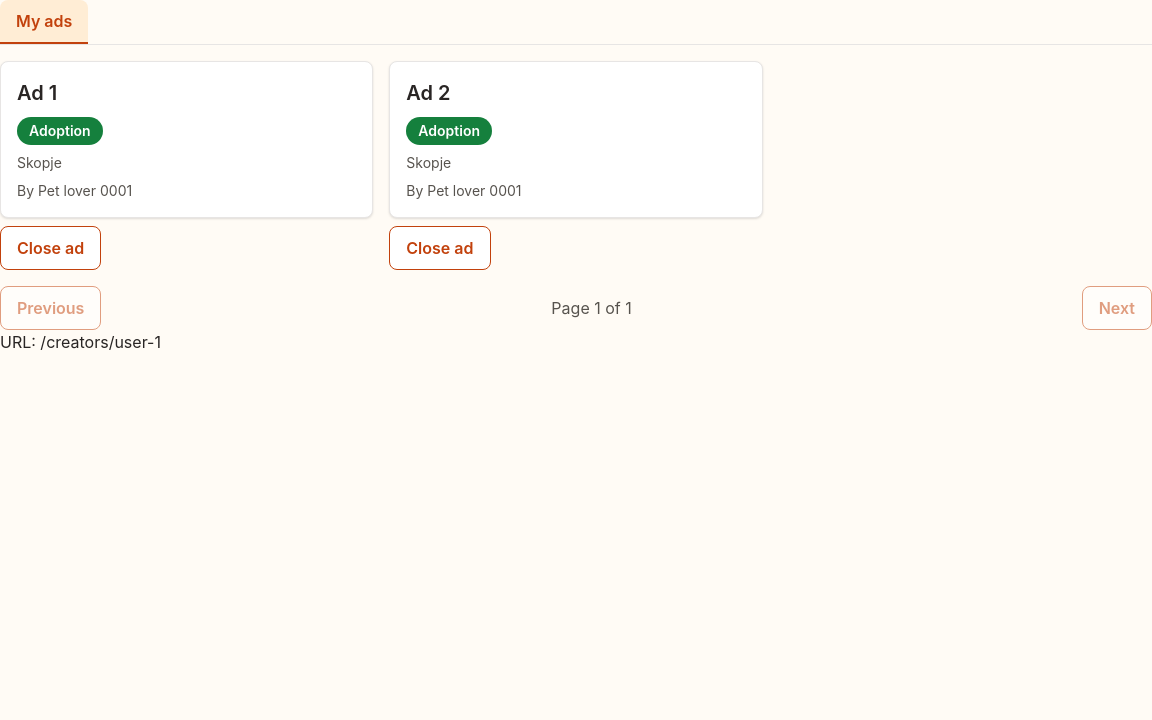
MyAdsTab close ad › no longer shows the closed ad after the list reloads
The image size is (1152, 720).
Click the button named "Close ad: Ad 1".
click(51, 248)  # box [0,226,101,270]
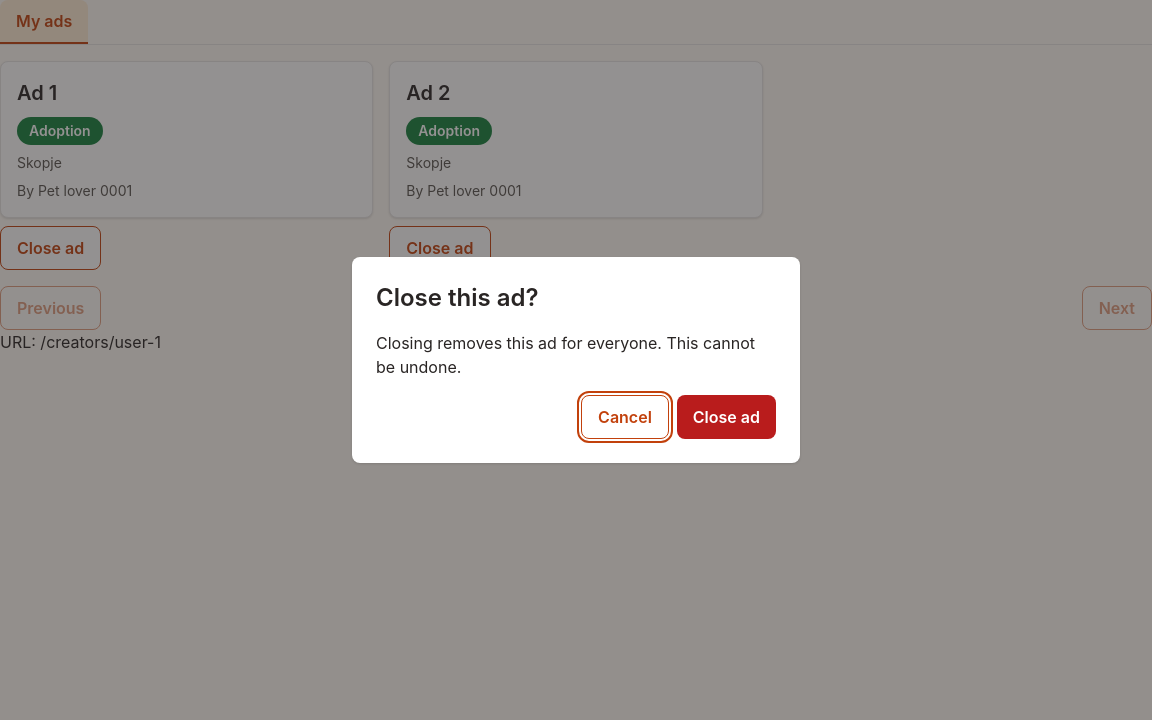
Click the button "Close ad".
click(726, 417)  # box [677,395,776,439]
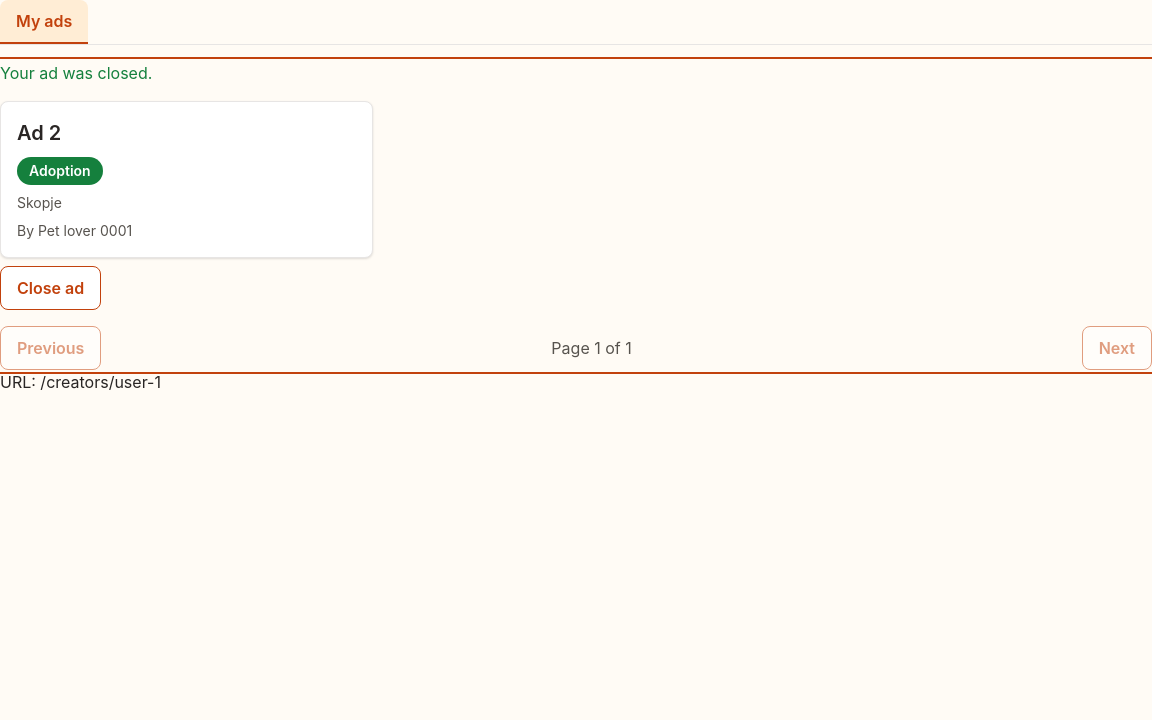
Check: the heading "Ad 2" is shown, box [17,121,61,145]
Check: the link "Ad 1" is gone
